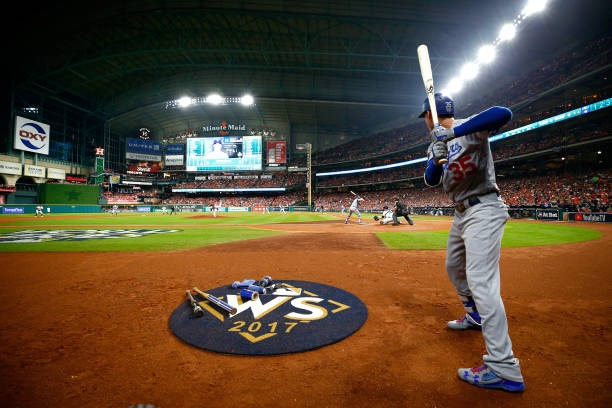bita: (412, 43, 442, 148)
